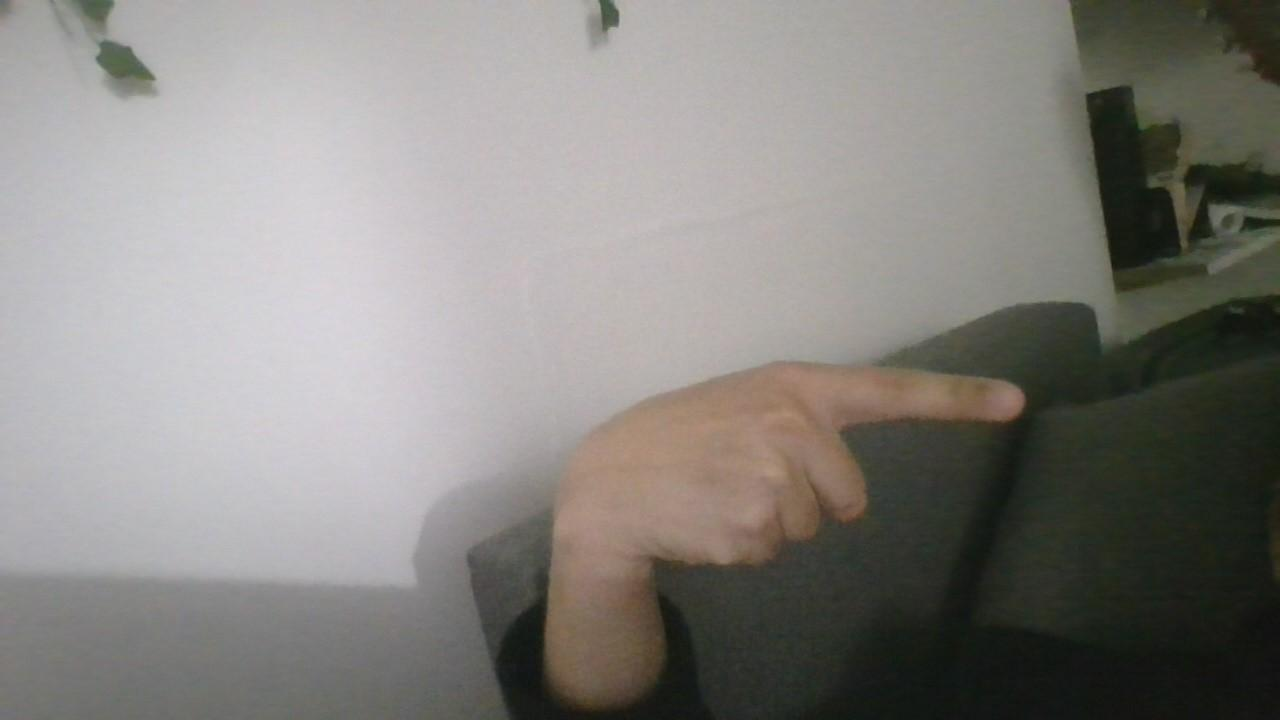right: (523, 309, 1041, 598)
